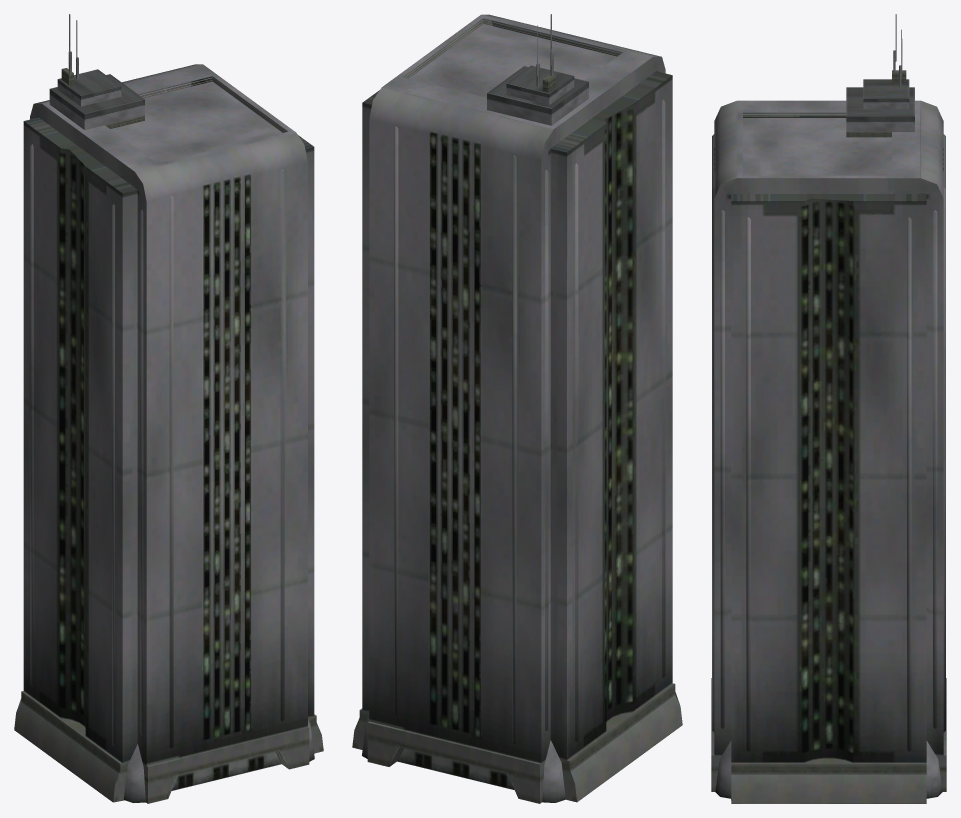
File: thm_corl_imprv_building_s01_l2.fbx
3 renders of one model, left to right at view 1: azimuth 30°, elevation 25°; view 2: azimuth 150°, elevation 25°; view 3: azimuth 270°, elevation 25°, orthographic. The views are drawn at different scales.
Visible parts, largest first — view 1: mesh_node; view 2: mesh_node; view 3: mesh_node.
Boxes of the visible parts, x1,y1,x2,y2 form: mesh_node: [14, 14, 323, 803]; mesh_node: [352, 14, 682, 803]; mesh_node: [711, 14, 946, 803].
Bounding box in the file's own units: 41.8 × 136 × 41.
